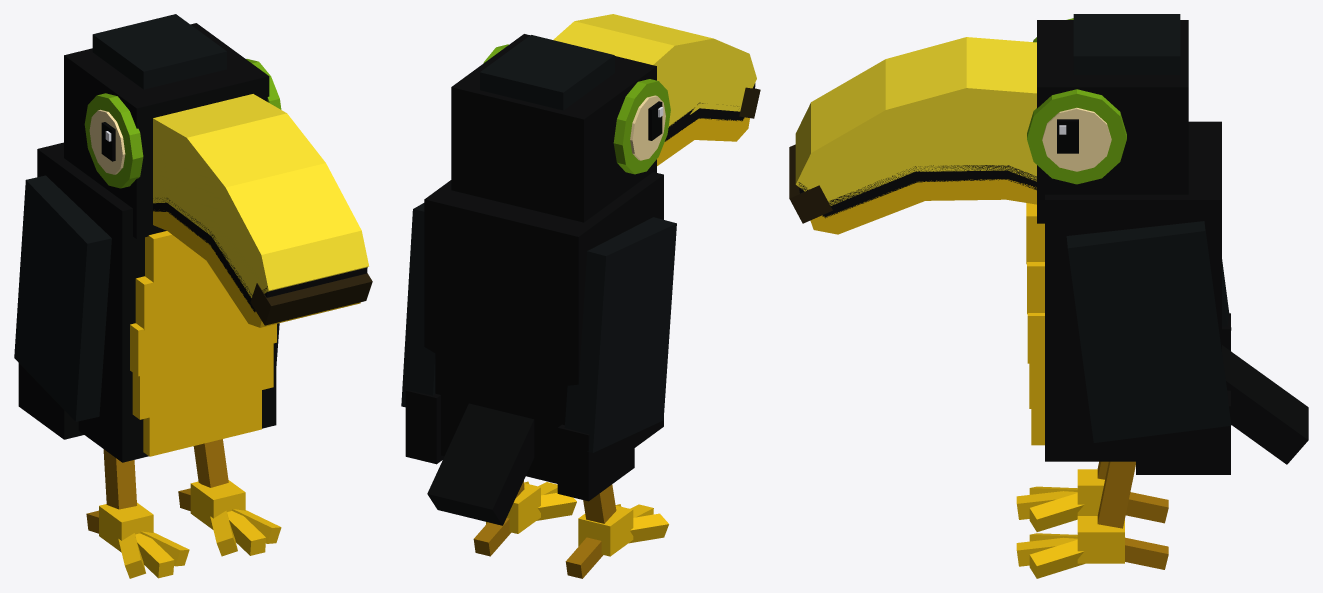
The model's file is TukannoBananno_Mini.glb.
3 views of the same model, side by side, from view 1: azimuth 30°, elevation 25°; view 2: azimuth 150°, elevation 25°; view 3: azimuth 270°, elevation 25° (orthographic). The views are drawn at different scales.
Visible parts, largest first — view 1: TukannoBananno_Mini; view 2: TukannoBananno_Mini; view 3: TukannoBananno_Mini.
Part boxes in pixels (x1,y1,x2,y2): TukannoBananno_Mini: [14, 14, 372, 578]; TukannoBananno_Mini: [401, 14, 760, 578]; TukannoBananno_Mini: [789, 14, 1308, 578].
Bounding box in the file's own units: 0.8667 × 2 × 1.85.
1 material, 1 textured.
